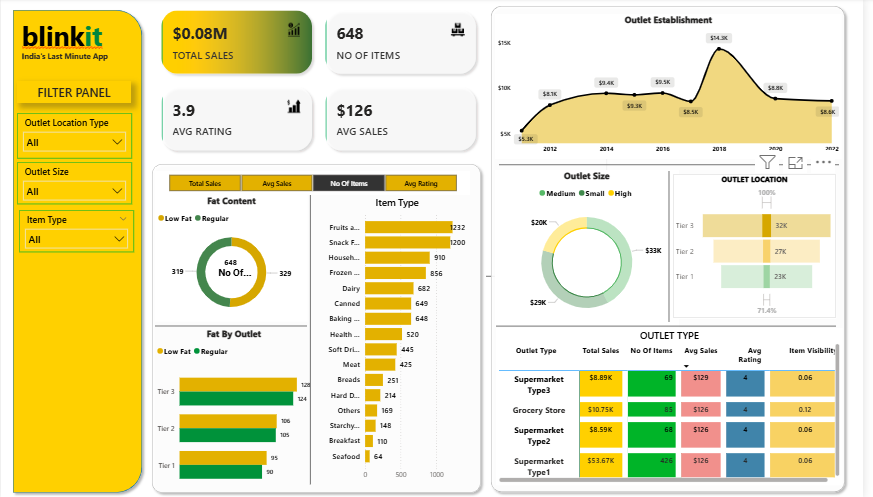

This screenshot's page, from the dashboard's own definition file:
{"tool":"powerbi","page":{"name":"Page 1","canvas":[1550,900],"ordinal":0},"visuals":[{"type":"shape","box":[12.3,12.3,250.5,886.9],"z":0},{"type":"textbox","box":[32.4,28.8,201.6,81],"z":1000},{"type":"textbox","box":[32.4,90,207,50.4],"z":2000},{"type":"cardVisual","fields":{"Data":["BlinkIT Grocery Data.Total Sales","BlinkIT Grocery Data.No Of Items","BlinkIT Grocery Data.Avg Rating","BlinkIT Grocery Data.Avg Sales"]},"box":[271,6.2,601.5,287.4],"z":3000},{"type":"shape","box":[262.8,289.5,609.7,609.7],"z":4000},{"type":"slicer","fields":{"Values":["Metrics.Metrics"]},"box":[277.2,312.1,566.6,43.1],"z":5000},{"type":"donutChart","title":"Fat Content","fields":{"Y":["BlinkIT Grocery Data.No Of Items"],"Category":["BlinkIT Grocery Data.Item Fat Content"]},"box":[277.2,355.2,275.1,227.9],"z":6000},{"type":"cardVisual","fields":{"Data":["BlinkIT Grocery Data.No Of Items"]},"box":[351.1,449.6,125.2,67.7],"z":6001},{"type":"clusteredBarChart","title":"Fat By Outlet","fields":{"Y":["BlinkIT Grocery Data.No Of Items"],"Category":["BlinkIT Grocery Data.Outlet Location Type"],"Series":["BlinkIT Grocery Data.Item Fat Content"]},"box":[275.1,593.3,287.4,305.9],"z":6002},{"type":"shape","box":[872.2,494.7,214.6,11.9],"z":6004},{"type":"shape","box":[1078.5,270.1,23.9,224.1],"z":6005},{"type":"barChart","title":"Item Type","fields":{"Category":["BlinkIT Grocery Data.Item Type"],"Y":["BlinkIT Grocery Data.No Of Items"]},"box":[572.8,355.2,281.3,521.5],"z":6006},{"type":"shape","box":[872.5,6.2,654.9,893],"z":6007},{"type":"lineChart","title":"Outlet Establishment ","fields":{"Category":["BlinkIT Grocery Data.Outlet Establishment Year"],"Y":["BlinkIT Grocery Data.Total Sales"]},"box":[888.9,28.7,624.1,260.7],"z":6008},{"type":"shape","box":[897.2,289.5,611.8,20.5],"z":6009},{"type":"donutChart","title":"Outlet Size","fields":{"Y":["BlinkIT Grocery Data.Total Sales"],"Category":["BlinkIT Grocery Data.Outlet Size"]},"box":[888.9,310,330.5,283.3],"z":6010},{"type":"shape","box":[550.2,355.2,12.3,521.5],"z":6011},{"type":"shape","box":[1194.8,312.1,14.4,271],"z":6012},{"type":"shape","box":[891,574.8,611.8,32.8],"z":6013},{"type":"funnel","title":" OUTLET LOCATION","fields":{"Y":["Sum(BlinkIT Grocery Data.Sales)"],"Category":["BlinkIT Grocery Data.Outlet Location Type"]},"box":[1209.2,316.2,293.6,260.7],"z":6014},{"type":"pivotTable","title":"OUTLET TYPE","fields":{"Values":["BlinkIT Grocery Data.Total Sales","BlinkIT Grocery Data.No Of Items","BlinkIT Grocery Data.Avg Sales","BlinkIT Grocery Data.Avg Rating","Avg(BlinkIT Grocery Data.Item Visibility)"],"Rows":["BlinkIT Grocery Data.Outlet Type"]},"box":[891,593.3,624.1,283.3],"z":6016},{"type":"slicer","fields":{"Values":["BlinkIT Grocery Data.Outlet Size"]},"box":[28.7,295.6,207.4,76],"z":6017},{"type":"shape","box":[277.2,583,273,14.4],"z":6018},{"type":"slicer","fields":{"Values":["BlinkIT Grocery Data.Outlet Location Type"]},"box":[28.7,207.4,207.4,82.1],"z":6019},{"type":"slicer","fields":{"Values":["BlinkIT Grocery Data.Item Type"]},"box":[32.8,381.9,207.4,76],"z":6020},{"type":"textbox","box":[28.7,149.9,205.3,39],"z":6021}]}

Visuals, with their boxes in screenshot pixels (x1, y1, x2, y2), scaled from the page's 1550x900 canvas onto the 873x497 screenshot:
shape: region(7, 7, 148, 496)
textbox: region(18, 16, 132, 61)
textbox: region(18, 50, 135, 78)
cardVisual - BlinkIT Grocery Data.Total Sales x BlinkIT Grocery Data.No Of Items: region(153, 3, 491, 162)
shape: region(148, 160, 491, 496)
slicer - Metrics.Metrics: region(156, 172, 475, 196)
"Fat Content" donutChart: region(156, 196, 311, 322)
cardVisual - BlinkIT Grocery Data.No Of Items: region(198, 248, 268, 286)
"Fat By Outlet" clusteredBarChart: region(155, 328, 317, 496)
shape: region(491, 273, 612, 280)
shape: region(607, 149, 621, 273)
"Item Type" barChart: region(323, 196, 481, 484)
shape: region(491, 3, 860, 496)
"Outlet Establishment " lineChart: region(501, 16, 852, 160)
shape: region(505, 160, 850, 171)
"Outlet Size" donutChart: region(501, 171, 687, 328)
shape: region(310, 196, 317, 484)
shape: region(673, 172, 681, 322)
shape: region(502, 317, 846, 336)
" OUTLET LOCATION" funnel: region(681, 175, 846, 319)
"OUTLET TYPE" pivotTable: region(502, 328, 853, 484)
slicer - BlinkIT Grocery Data.Outlet Size: region(16, 163, 133, 205)
shape: region(156, 322, 310, 330)
slicer - BlinkIT Grocery Data.Outlet Location Type: region(16, 115, 133, 160)
slicer - BlinkIT Grocery Data.Item Type: region(18, 211, 135, 253)
textbox: region(16, 83, 132, 104)
